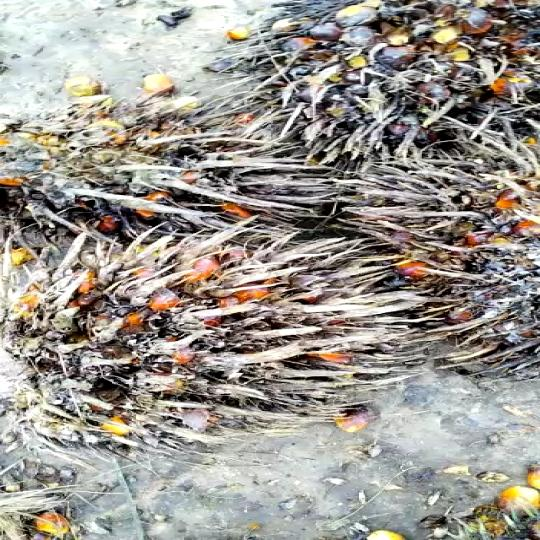terlalu masak: (15, 233, 420, 463)
